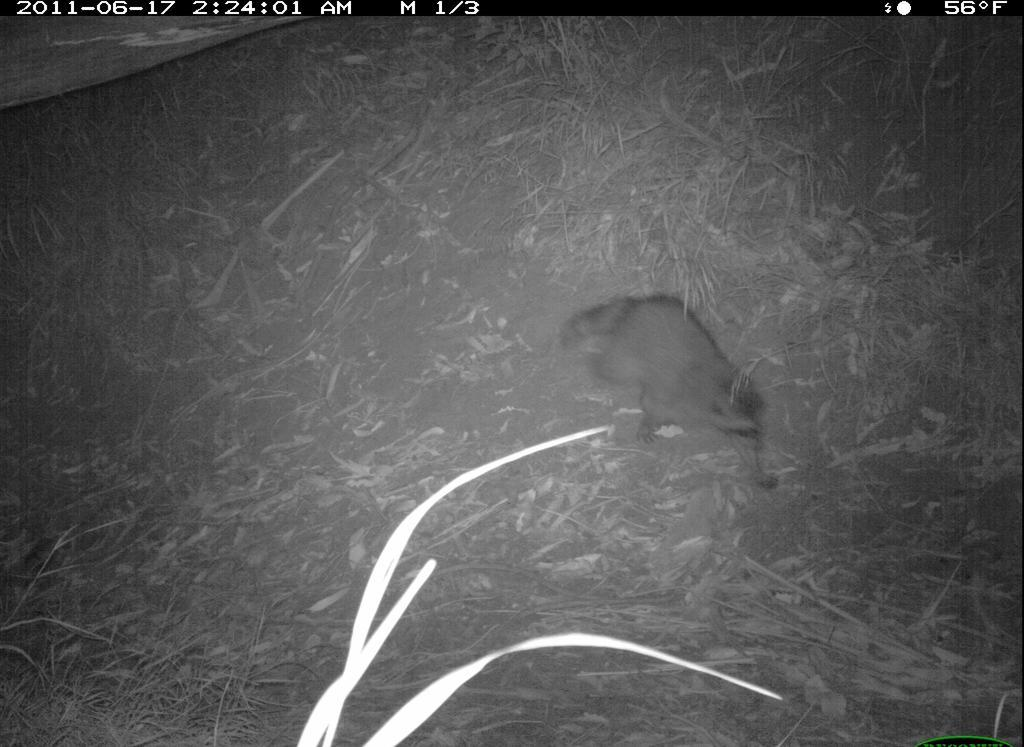raccoon: (559, 286, 789, 498)
